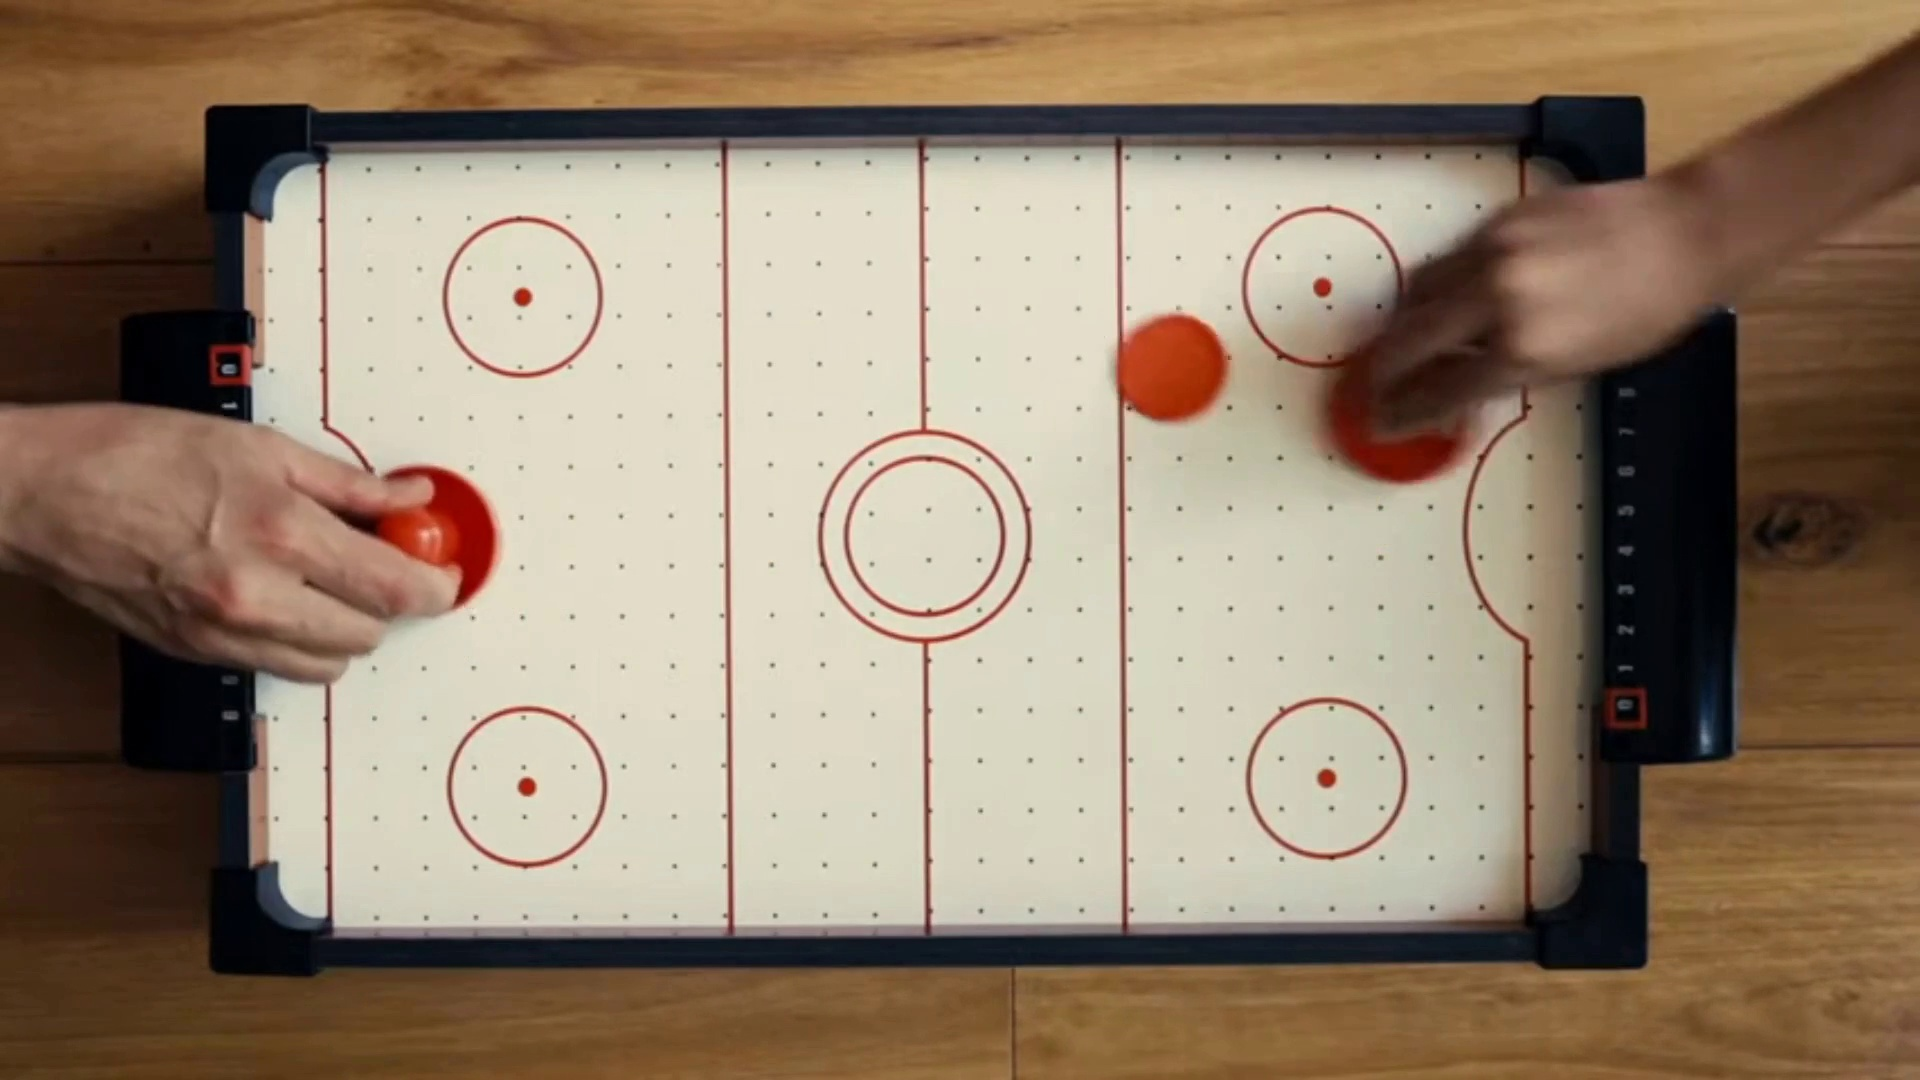player1: (345, 466, 498, 616)
player2: (1328, 347, 1466, 487)
puck: (1109, 312, 1232, 429)
table: (259, 144, 1607, 935)
